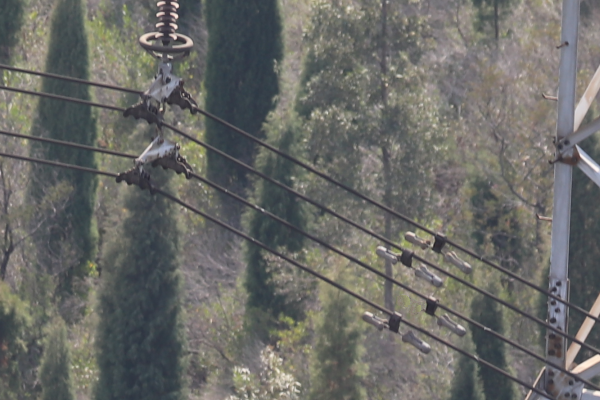damper: (359, 304, 432, 356), (401, 222, 473, 274), (375, 240, 445, 289)
damper_defect: (419, 294, 470, 339)
